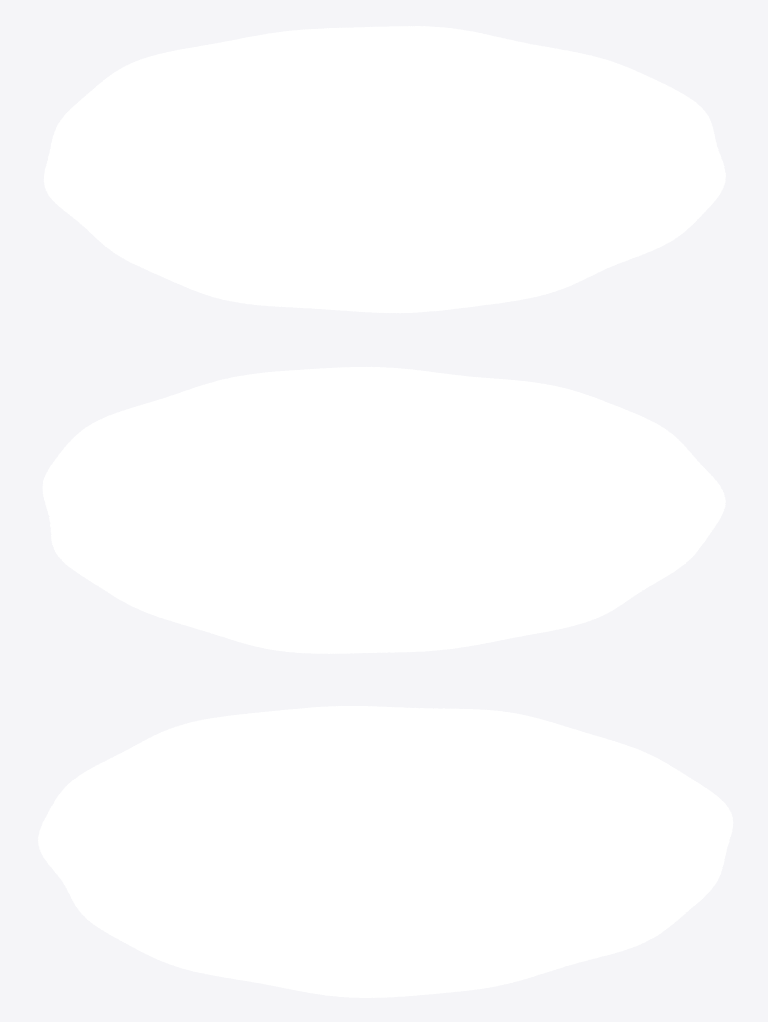
The model's file is snow_blanket.glb.
3 views of the same model, one above another, from view 1: azimuth 30°, elevation 25°; view 2: azimuth 150°, elevation 25°; view 3: azimuth 270°, elevation 25° (orthographic).
Size of the model in its own units: 141 by 0.2942 by 141.
1 material, 1 textured.
